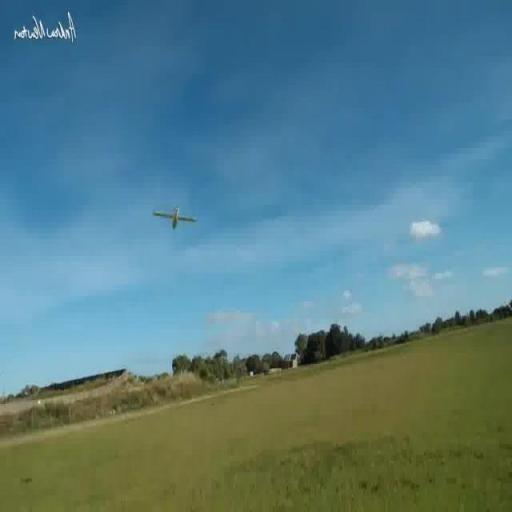uav: (150, 154, 217, 258)
